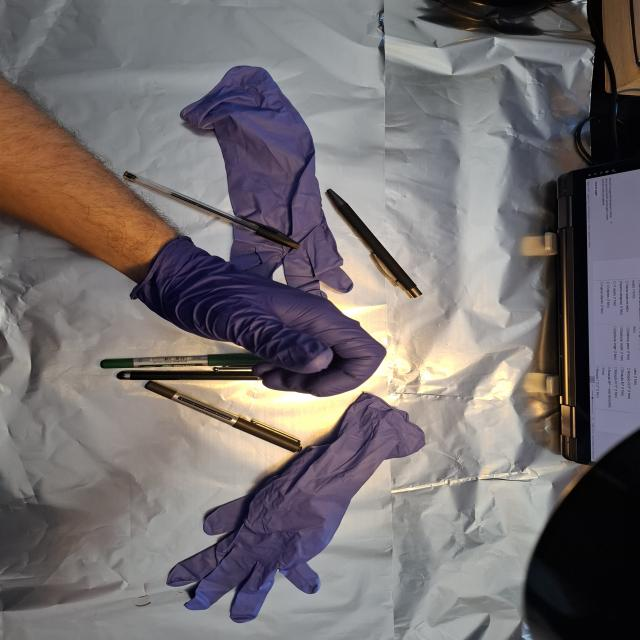glove_on: (127, 233, 389, 399)
